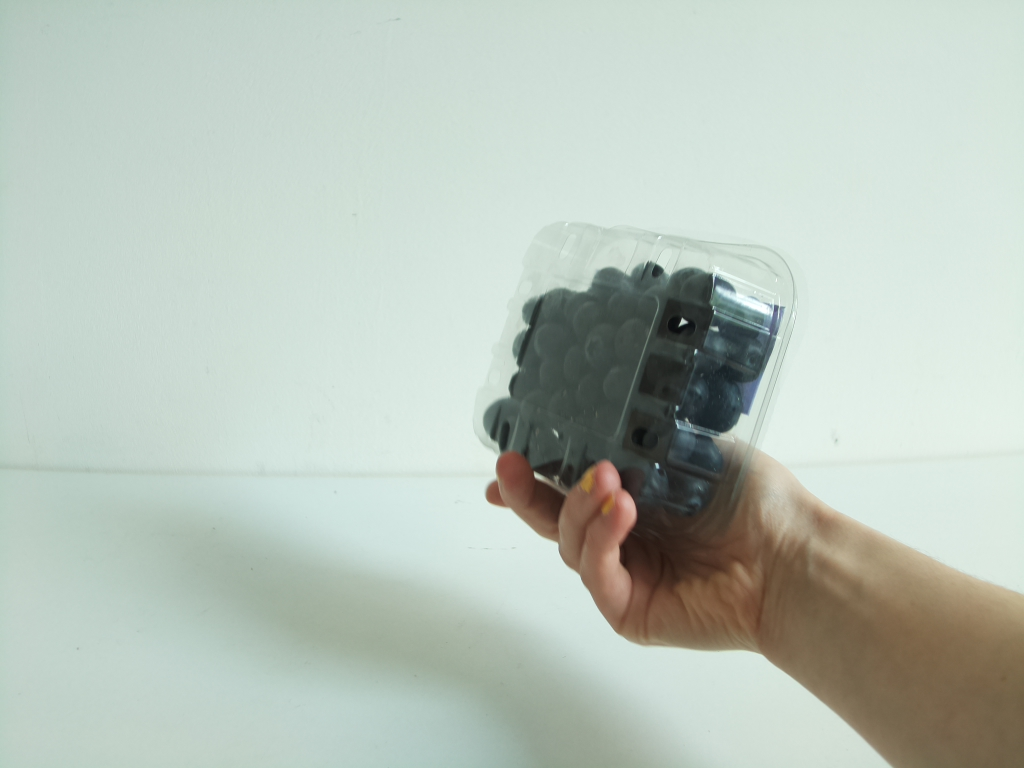soft-fruit: (470, 217, 794, 563)
